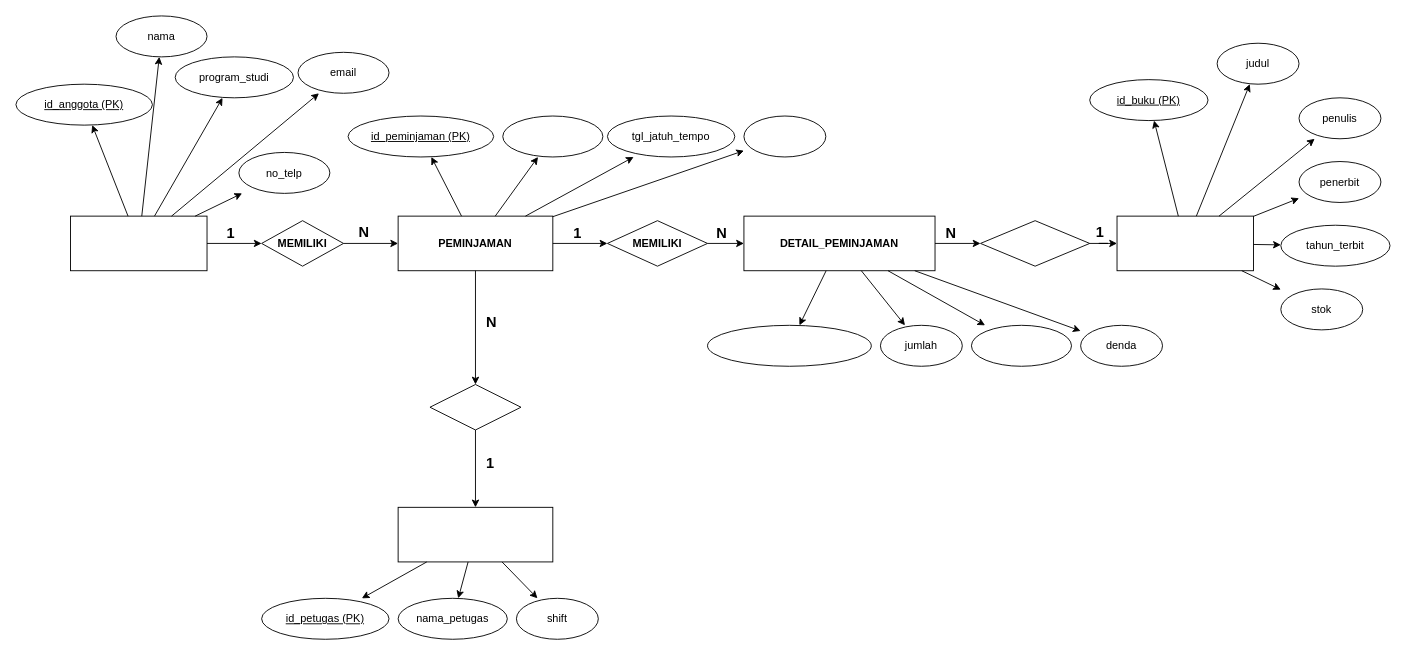
Image size: 1406x655. Some labels were removed from this diagram. Here are the shapes that lost their labels. From the top down, the centre of each, then its label:
At pixel 552 136: "tgl_pinjam".
At pixel 784 136: "status".
At pixel 138 243: "ANGGOTA".
At pixel 1035 243: "TERCATAT PADA".
At pixel 1185 243: "BUKU".
At pixel 789 345: "no_item (partial key)".
At pixel 1021 345: "tgl_kembali".
At pixel 475 407: "MELAYANI".
At pixel 475 534: "PETUGAS".
